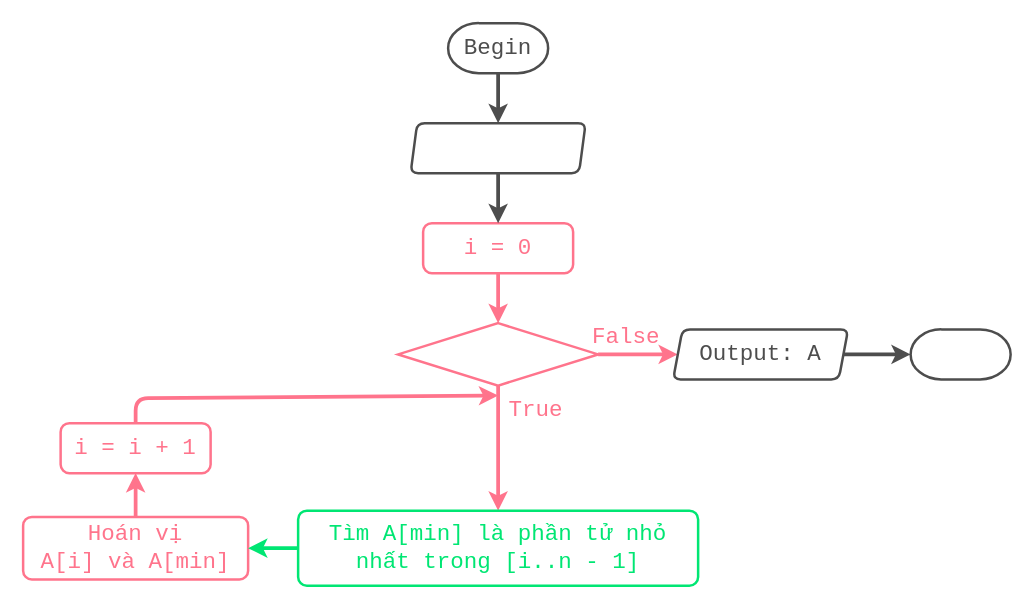
Some shapes in this 1033 by 608 pixel diagram are drawn without their labels. The box of each missing label's shape, as (x1, y1, x2, y2) in pixels:
End: (909, 328, 1011, 380)
i < n - 1: (396, 321, 599, 386)
Input: A, n: (409, 121, 586, 174)
